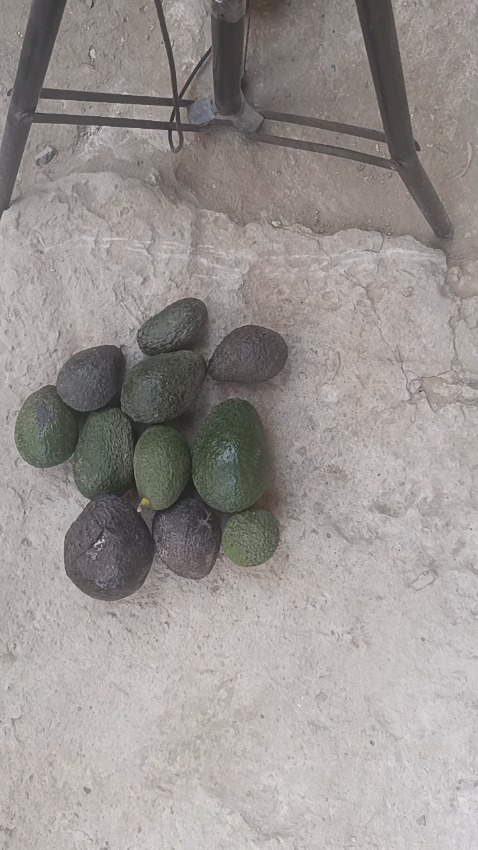Primera: (192, 399, 274, 514), (63, 498, 153, 601)
Segunda: (123, 350, 210, 425), (150, 499, 222, 580), (72, 410, 135, 501)
Tercera: (15, 385, 81, 467), (206, 325, 290, 386), (133, 426, 193, 511), (58, 344, 126, 413), (136, 298, 210, 356), (220, 509, 281, 568)
